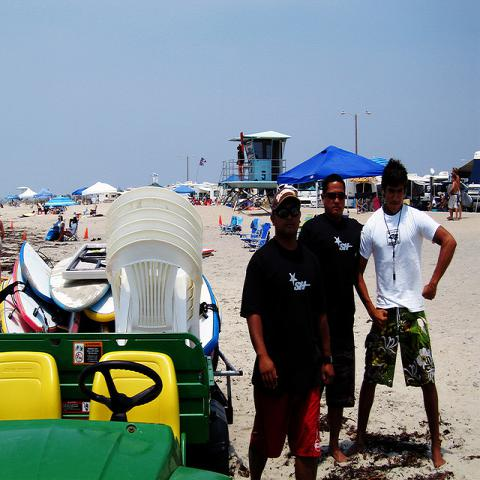car: (0, 192, 227, 474)
